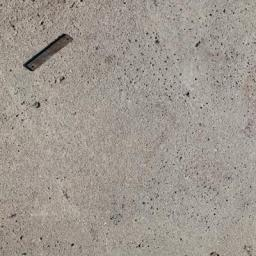FOD: (22, 33, 77, 73)
